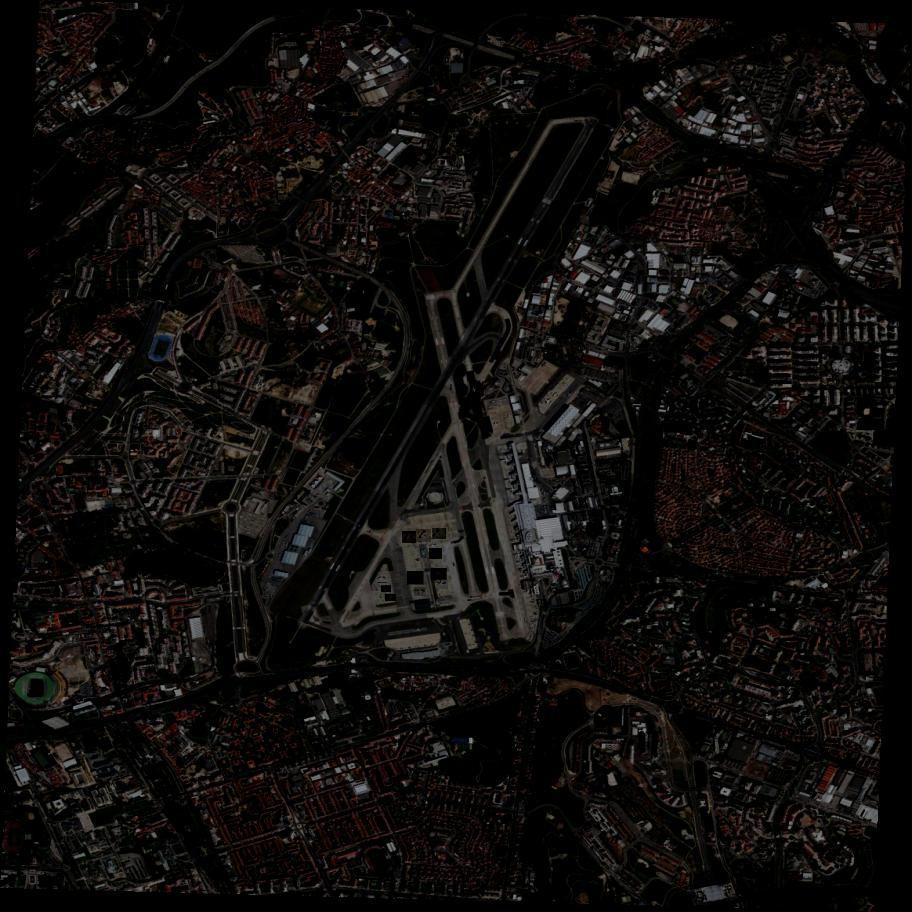plane: (408, 570, 425, 586), (416, 529, 432, 544), (431, 568, 447, 583), (403, 530, 417, 545), (432, 527, 446, 541), (430, 549, 443, 561), (414, 587, 426, 596), (437, 580, 448, 589), (385, 594, 396, 601), (377, 576, 387, 583), (382, 586, 391, 592)
